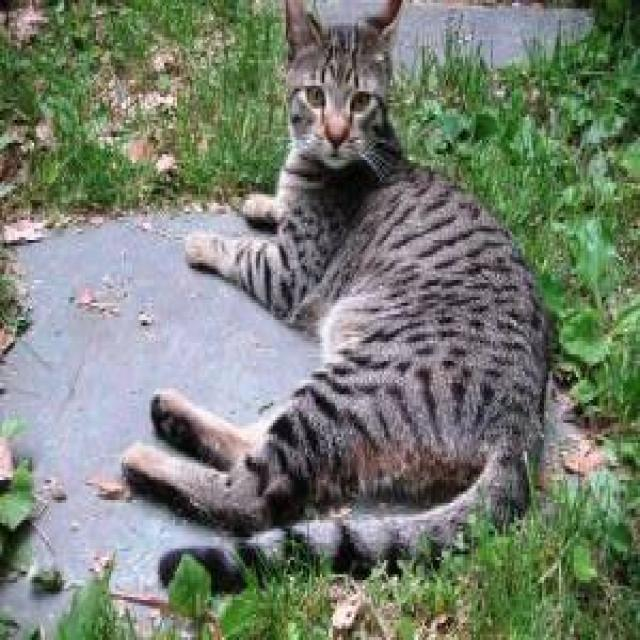Egyptian_Mau: (277, 0, 410, 177)
